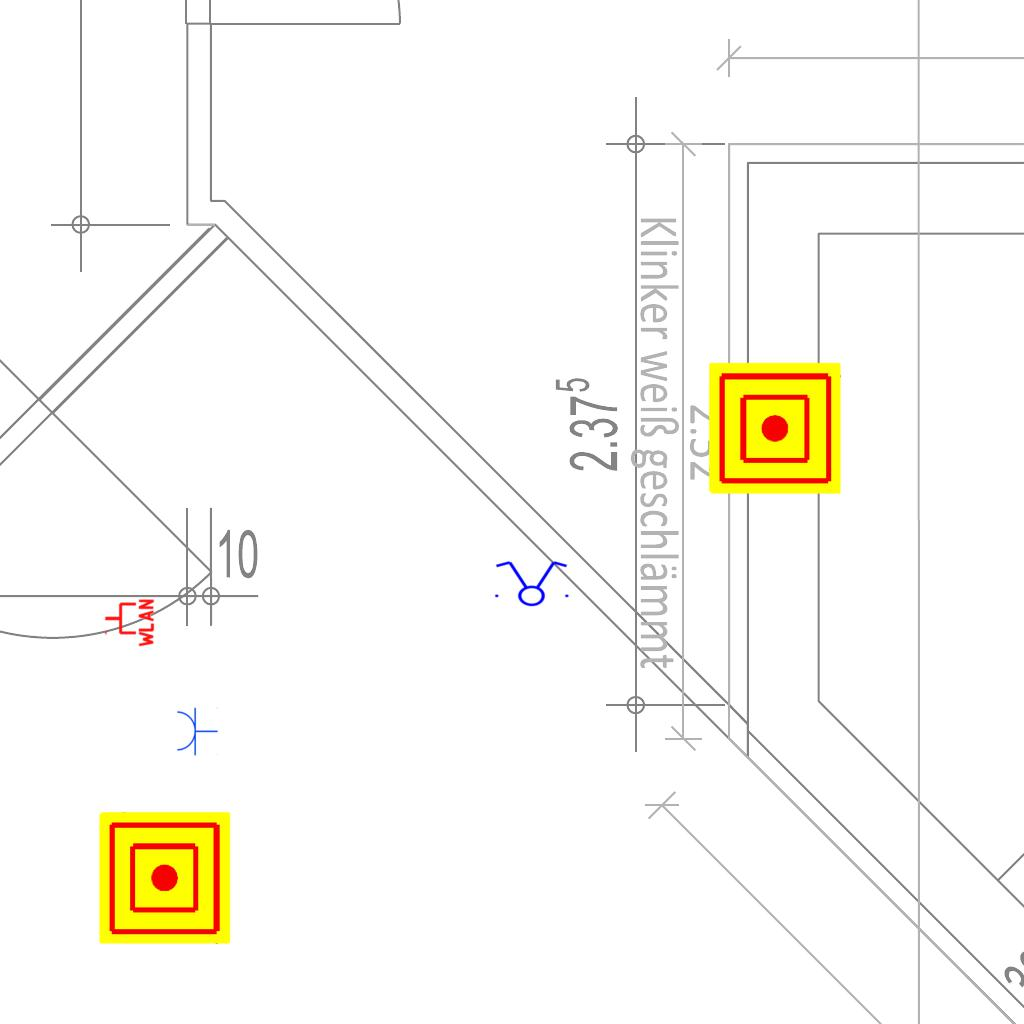NAM-Nichtautomatischer_Melder: (99, 812, 231, 944), (709, 362, 841, 494)
Schukosteckdose_einfach: (175, 706, 218, 756)
Serienschalter: (489, 559, 573, 607)
WLAN: (103, 597, 155, 649)
